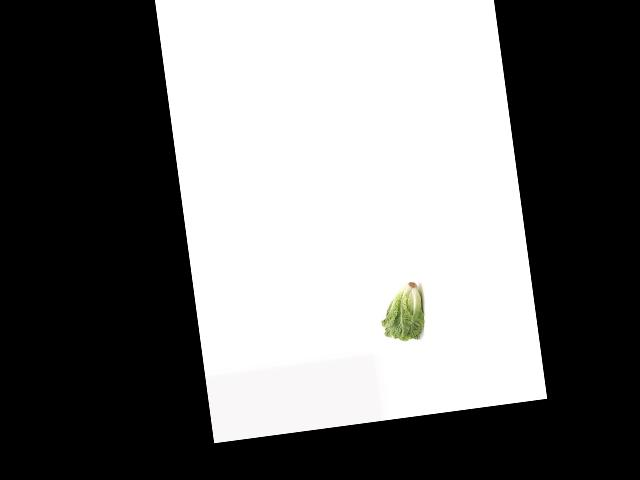lettuce: (376, 278, 428, 343)
